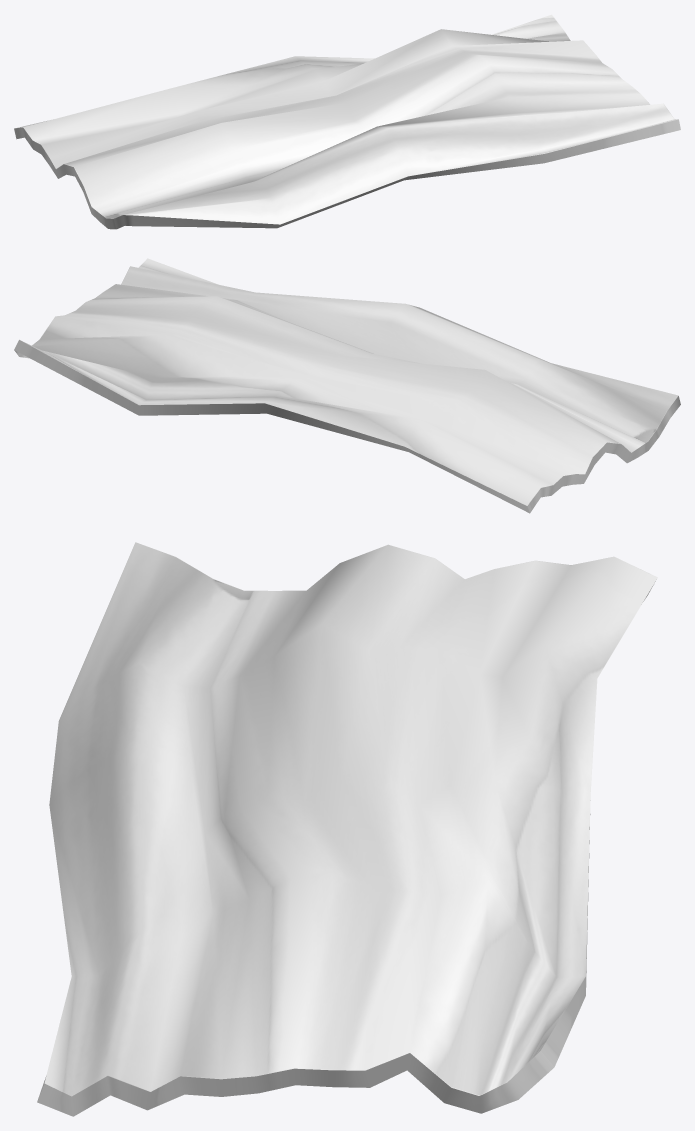
File: cloth.FBX
3 renders of one model, top to bottom at view 1: azimuth 30°, elevation 25°; view 2: azimuth 150°, elevation 25°; view 3: azimuth 270°, elevation 25°, orthographic. The views are drawn at different scales.
Visible parts, largest first — view 1: Plane001; view 2: Plane001; view 3: Plane001.
Part boxes in pixels (<box>): Plane001: <box>14,14,680,229</box>; Plane001: <box>14,258,680,513</box>; Plane001: <box>37,542,657,1116</box>.
Bounding box in the file's own units: 55.51 × 6.05 × 28.3.
Materials: 1 (1 with a texture image).
